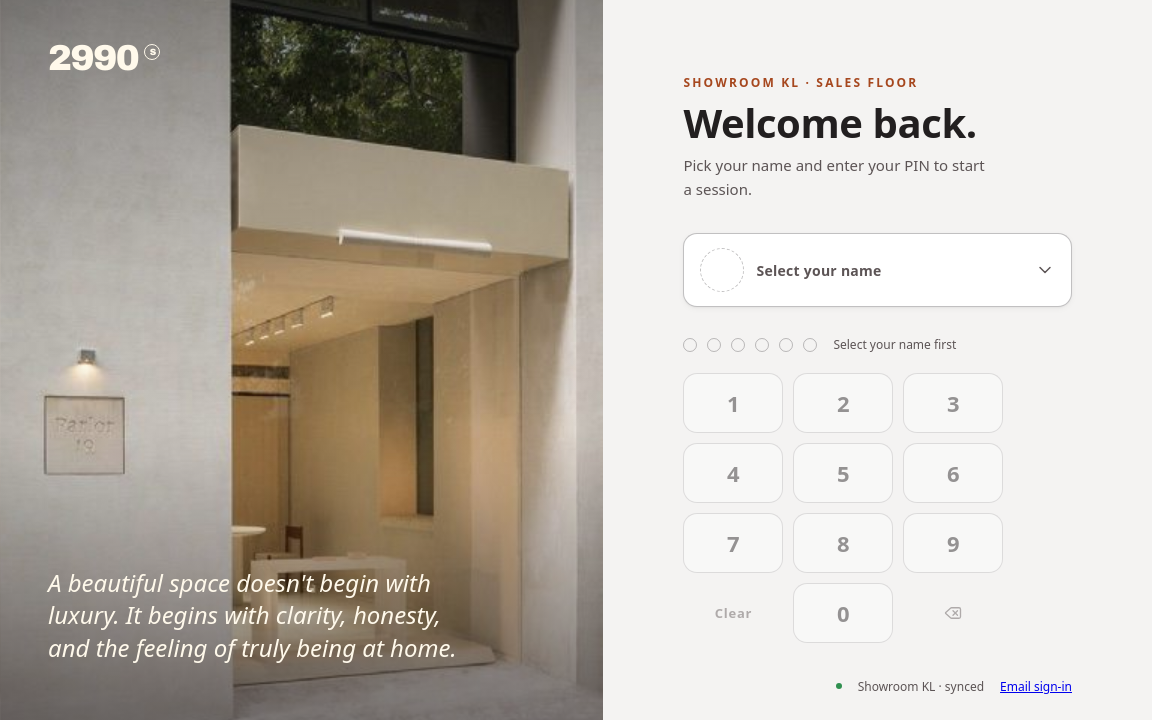
LockScreen staff picker › filters by staff code — the only thing that separates two same-first-names
Click the button "Select your name" at {"x": 878, "y": 270}, box top-left (683, 233), bottom-right (1072, 307)
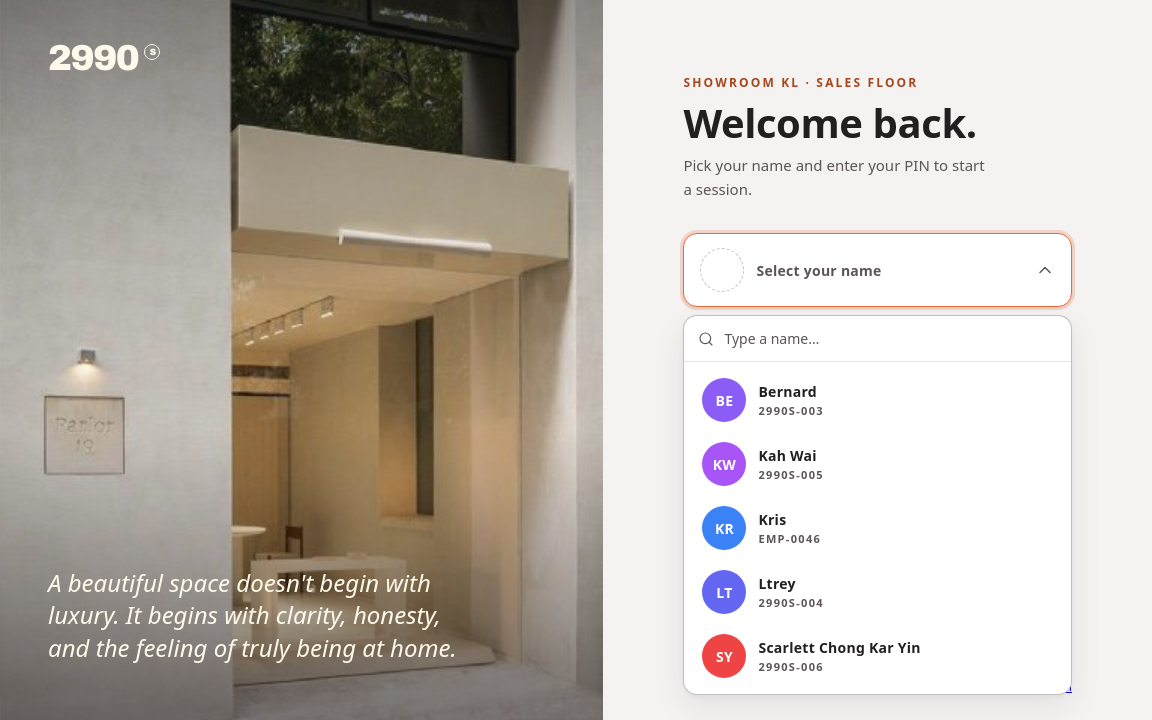
Type "emp-0046" into the field named "filter staff" at {"x": 890, "y": 339}, box top-left (722, 328), bottom-right (1057, 349)
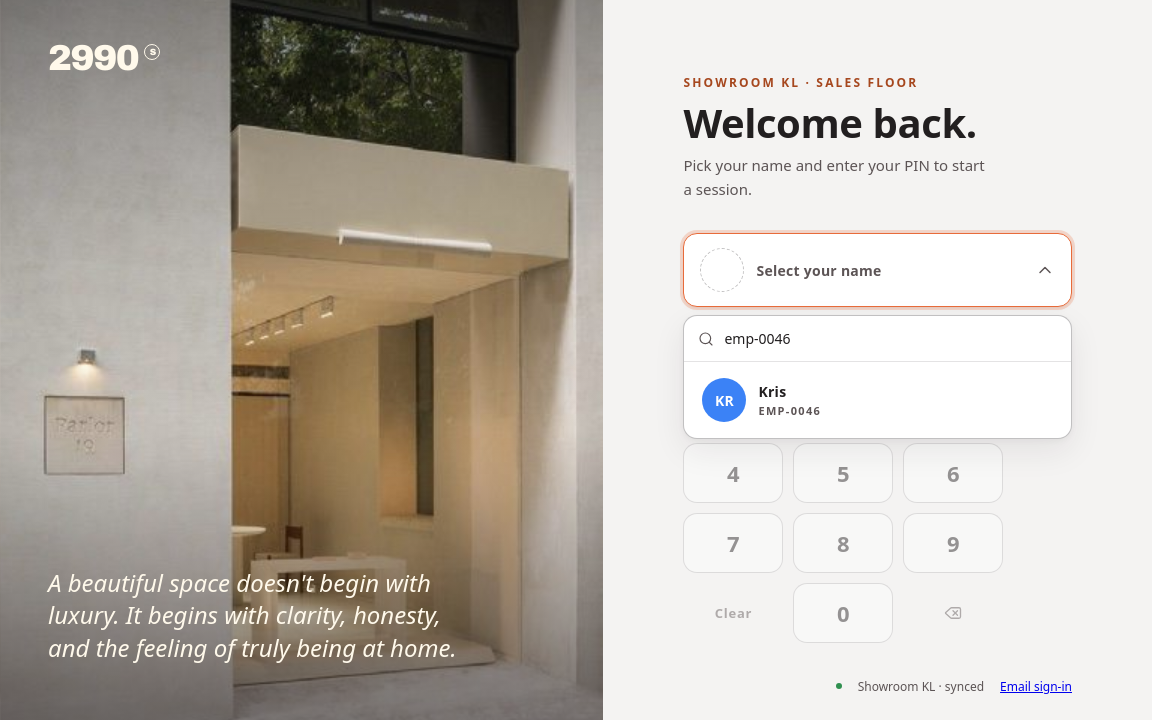
Now the option shows "Kris", box top-left (690, 368), bottom-right (1065, 432)
Now the number of options is 1, box top-left (690, 368), bottom-right (1065, 432)
